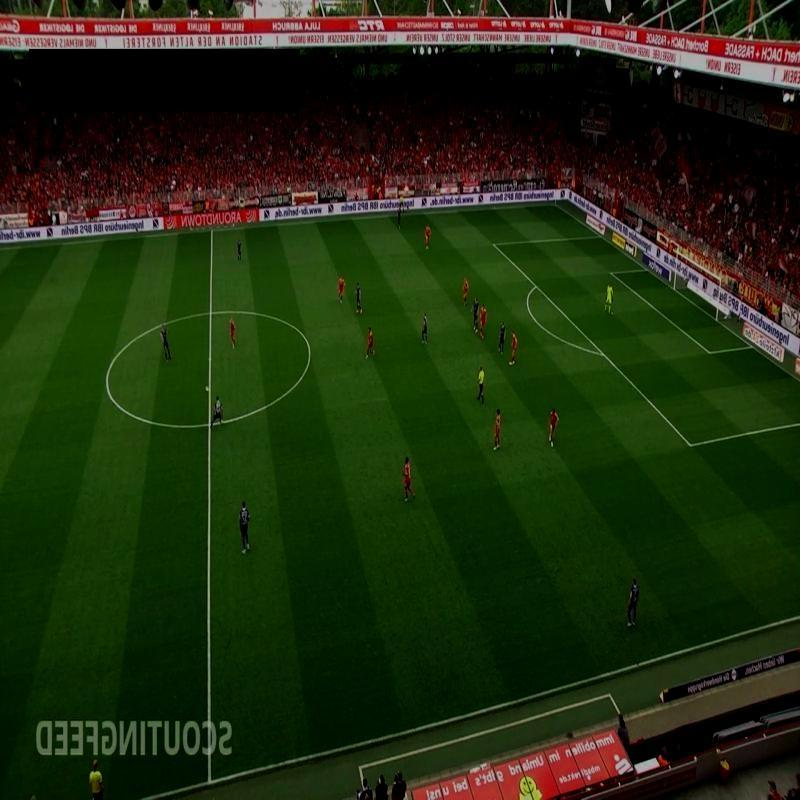1: (548, 198, 562, 212)
10: (529, 280, 543, 294)
11: (596, 349, 610, 362)
12: (684, 438, 698, 453)
13: (206, 222, 219, 236)
14: (203, 304, 218, 320)
15: (201, 416, 216, 433)
16: (200, 774, 219, 790)
2: (594, 231, 608, 244)
3: (641, 264, 655, 278)
4: (744, 340, 758, 354)
7: (604, 264, 618, 278)
8: (704, 346, 718, 360)
9: (488, 237, 502, 250)
c: (302, 341, 316, 357), (101, 374, 116, 388)
